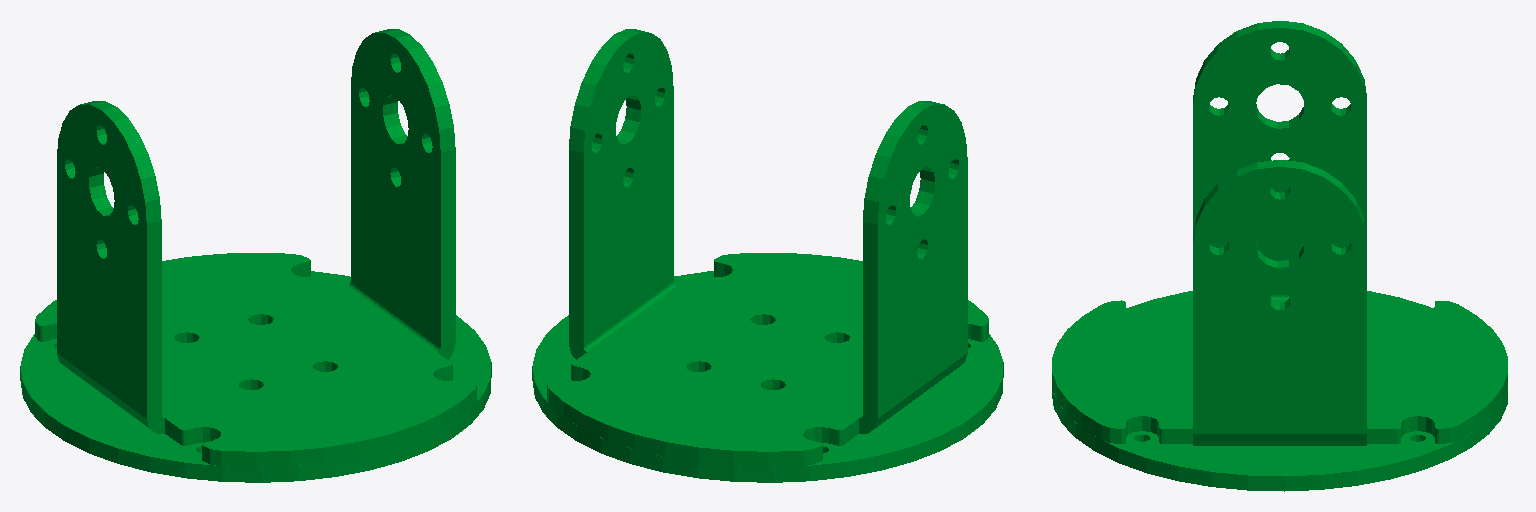
URDF robot description (arm):
<?xml version="1.0" encoding="UTF-8" ?>
<robot name="arm">
    <link name="base_link">
        <visual>
            <origin xyz="0 0 0" rpy="0 0 0" />
            <geometry>
                <mesh filename="package://arm_moveit/meshes/base_link.STL" />
            </geometry>
            <material name="">
                <color rgba="0.592156862745098 0.666666666666667 0.682352941176471 1" />
            </material>
        </visual>
    </link>
    <link name="link1">
        <visual>
            <origin xyz="0 0 0" rpy="0 0 0" />
            <geometry>
                <mesh filename="package://arm_moveit/meshes/link1.STL" />
            </geometry>
            <material name="">
                <color rgba="0 0.627450980392157 0.235294117647059 1" />
            </material>
        </visual>
    </link>
    <joint name="joint1" type="revolute">
        <origin xyz="0 0 0.078" rpy="-0.010805 0 0" />
        <parent link="base_link" />
        <child link="link1" />
        <axis xyz="0 0 1" />
        <limit effort="30" velocity="1.0" lower="-1.57" upper="1.57"/>
    </joint>
    <link name="link2">
        <visual>
            <origin xyz="0 0 0" rpy="0 0 0" />
            <geometry>
                <mesh filename="package://arm_moveit/meshes/link2.STL" />
            </geometry>
            <material name="">
                <color rgba="0.592156862745098 0.666666666666667 0.682352941176471 1" />
            </material>
        </visual>
    </link>
    <joint name="joint2" type="revolute">
        <origin xyz="0 -0.00031873 0.029498" rpy="0 1.5708 0" />
        <parent link="link1" />
        <child link="link2" />
        <axis xyz="0 0 1" />
        <limit effort="30" velocity="1.0" lower="-1.57" upper="1.57"/>
    </joint>
    <link name="link3">
        <visual>
            <origin xyz="0 0 0" rpy="0 0 0" />
            <geometry>
                <mesh filename="package://arm_moveit/meshes/link3.STL" />
            </geometry>
            <material name="">
                <color rgba="0 0.627450980392157 0.235294117647059 1" />
            </material>
        </visual>
    </link>
    <joint name="joint3" type="revolute">
        <origin xyz="-0.08285 0 0" rpy="0 0 0" />
        <parent link="link2" />
        <child link="link3" />
        <axis xyz="0 0 1" />
        <limit effort="30" velocity="1.0" lower="-1.57" upper="1.57"/>
    </joint>
    <link name="link4">
        <visual>
            <origin xyz="0 0 0" rpy="0 0 0" />
            <geometry>
                <mesh filename="package://arm_moveit/meshes/link4.STL" />
            </geometry>
            <material name="">
                <color rgba="0.592156862745098 0.666666666666667 0.682352941176471 1" />
            </material>
        </visual>
    </link>
    <joint name="joint4" type="revolute">
        <origin xyz="-0.08285 0 0" rpy="0 0 0.0083081" />
        <parent link="link3" />
        <child link="link4" />
        <axis xyz="0 0 1" />
        <limit effort="30" velocity="1.0" lower="-1.57" upper="1.57"/>
    </joint>
    <!-- link5 -->
    <link name="link5">
        <visual>
            <origin xyz="0 0 0" rpy="0 0 0"/>
            <geometry>
                <mesh filename="package://arm_moveit/meshes/link5.STL"/>
            </geometry>
            <material name="">
                <color rgba="1 1 1 1" />
            </material>
        </visual>
    </link>
    <!-- joint5 -->
    <joint name="joint5" type="revolute">
        <origin xyz="-0.07385 -0.001 0" rpy="0 -1.57 0"/>
        <axis xyz="0 0 1"/>
        <parent link="link4"/>
        <child link="link5"/>
        <limit effort="30" velocity="1.0" lower="-1.57" upper="1.57"/>
    </joint>
</robot>

--- Render facts (derived) ---
3 views of the same robot in one strip: view 1: azimuth 30°, elevation 25°; view 2: azimuth 150°, elevation 25°; view 3: azimuth 270°, elevation 25° (orthographic).
Robot: arm — 6 links, 5 joints (5 revolute); root link base_link; default pose: all joints at 0.
Links seen in each view (by area): view 1: link1; view 2: link1; view 3: link1.
Boxes of the visible links, x1,y1,x2,y2 form: link1: (20, 29, 491, 482); link1: (532, 29, 1003, 482); link1: (1052, 21, 1507, 491).
Bounding box of the posed robot: 0.0549 × 0.0549 × 0.04 m (x, y, z).
Meshes: 6 distinct files referenced, 1 mesh visuals loaded (1 binary STL); not drawn: 5 (reference not matched to a file when rendering).